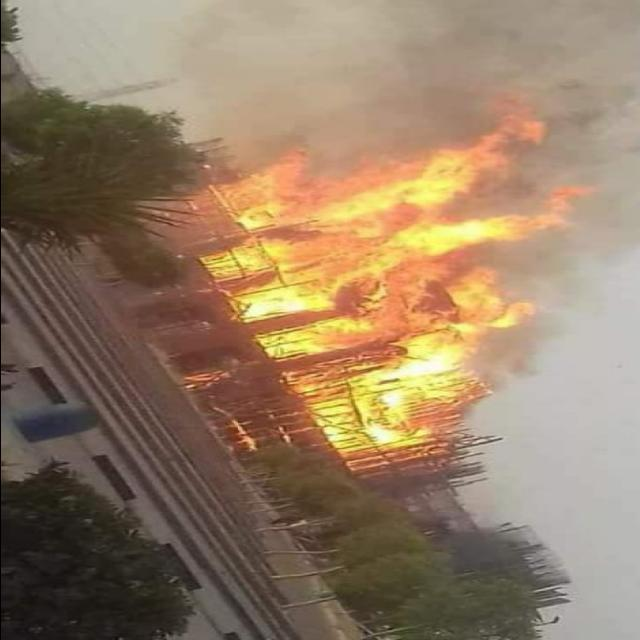Fire: (200, 128, 561, 468)
